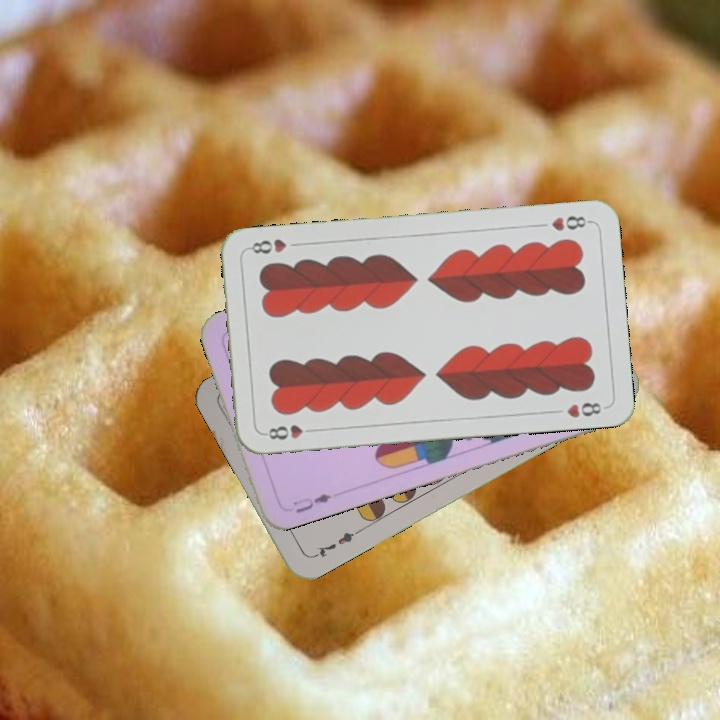E7: (309, 526, 363, 561)
EU: (288, 489, 334, 515)
H8: (260, 421, 319, 442), (547, 212, 593, 234)
